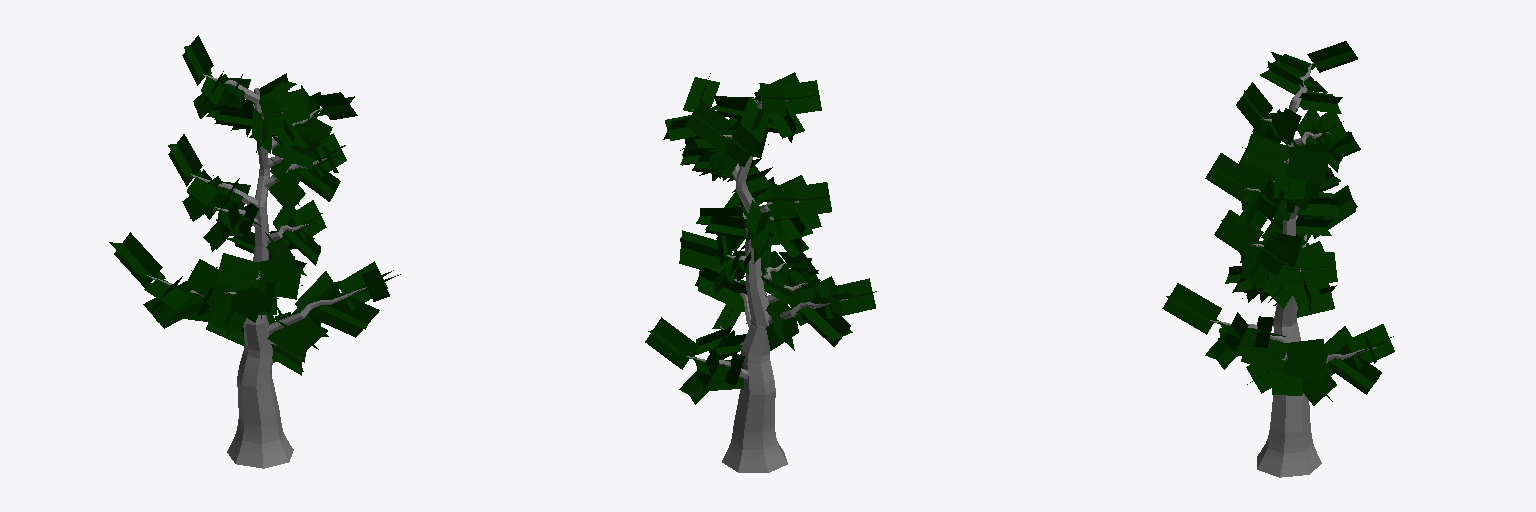
The model's file is TreeAA11.obj.
3 views of the same model, side by side, from view 1: azimuth 30°, elevation 25°; view 2: azimuth 150°, elevation 25°; view 3: azimuth 270°, elevation 25° (orthographic).
Visible parts, largest first — view 1: TreeA12:TreeAA1Trees; view 2: TreeA12:TreeAA1Trees; view 3: TreeA12:TreeAA1Trees.
Part boxes in pixels (x1,y1,x2,y2): TreeA12:TreeAA1Trees: (109,35,400,468); TreeA12:TreeAA1Trees: (645,72,876,472); TreeA12:TreeAA1Trees: (1162,41,1394,477).
Bounding box in the file's own units: 2.53 × 4.35 × 2.29.